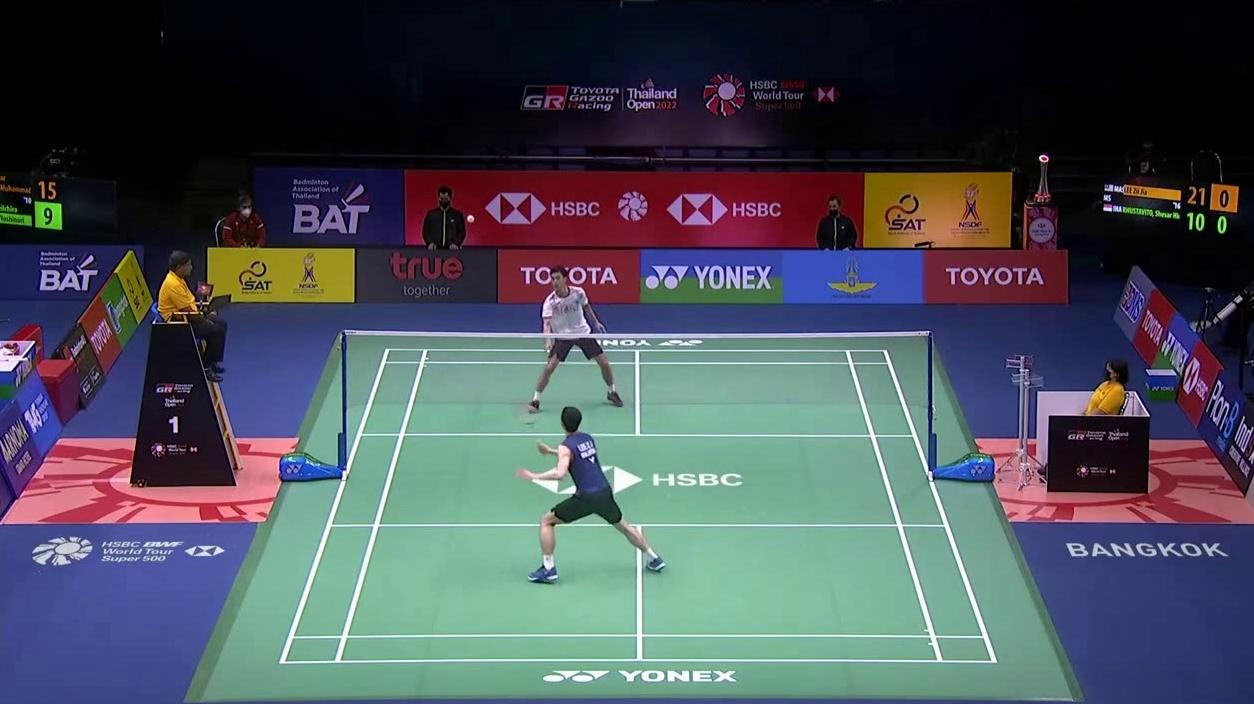racket: (519, 405, 548, 456)
shuttle: (466, 215, 474, 222)
